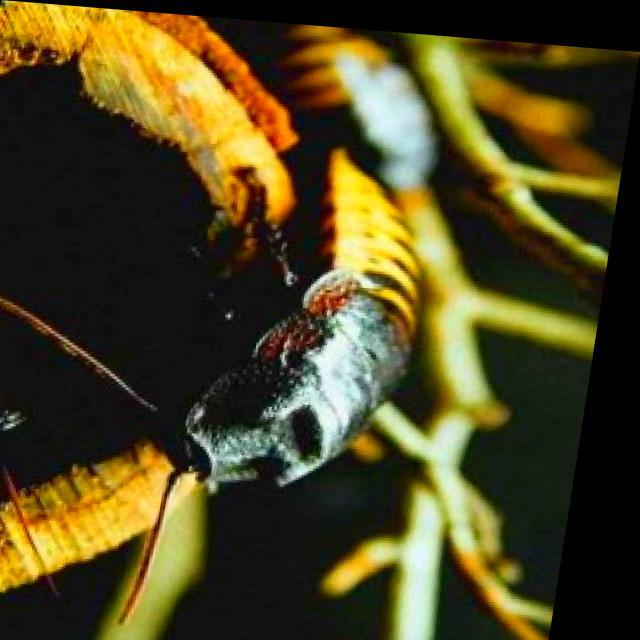cockroach: (141, 167, 450, 561)
